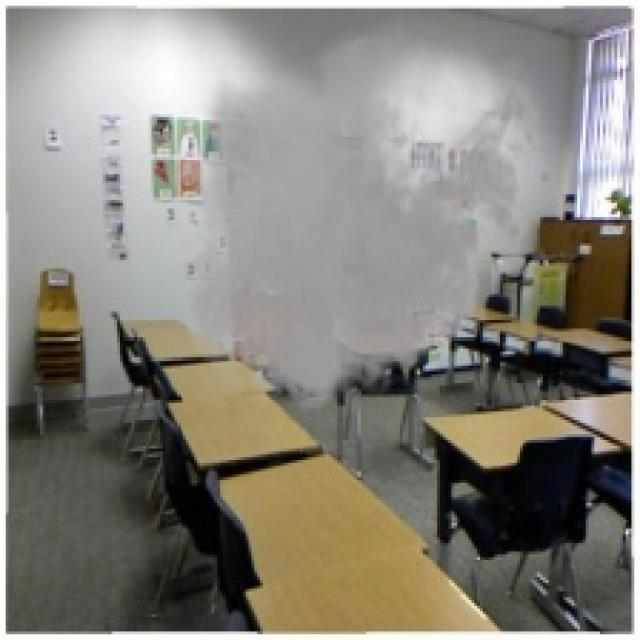Smoke: (172, 11, 552, 426)
